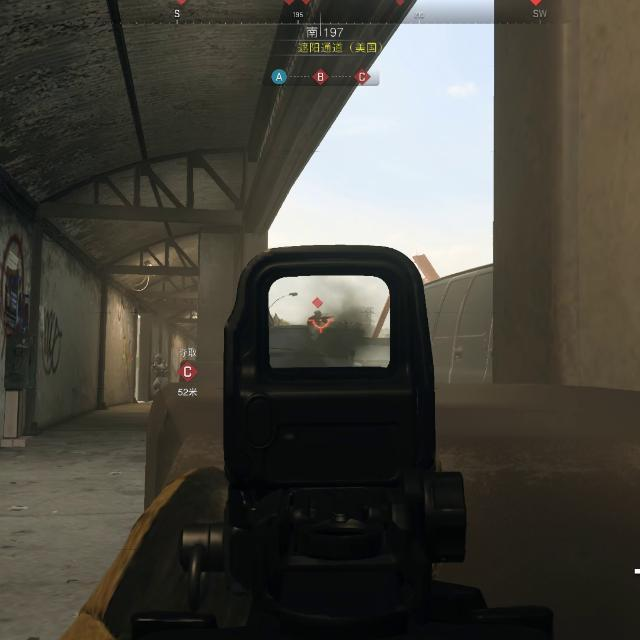MW2_body: (151, 354, 170, 396), (307, 296, 329, 329)
